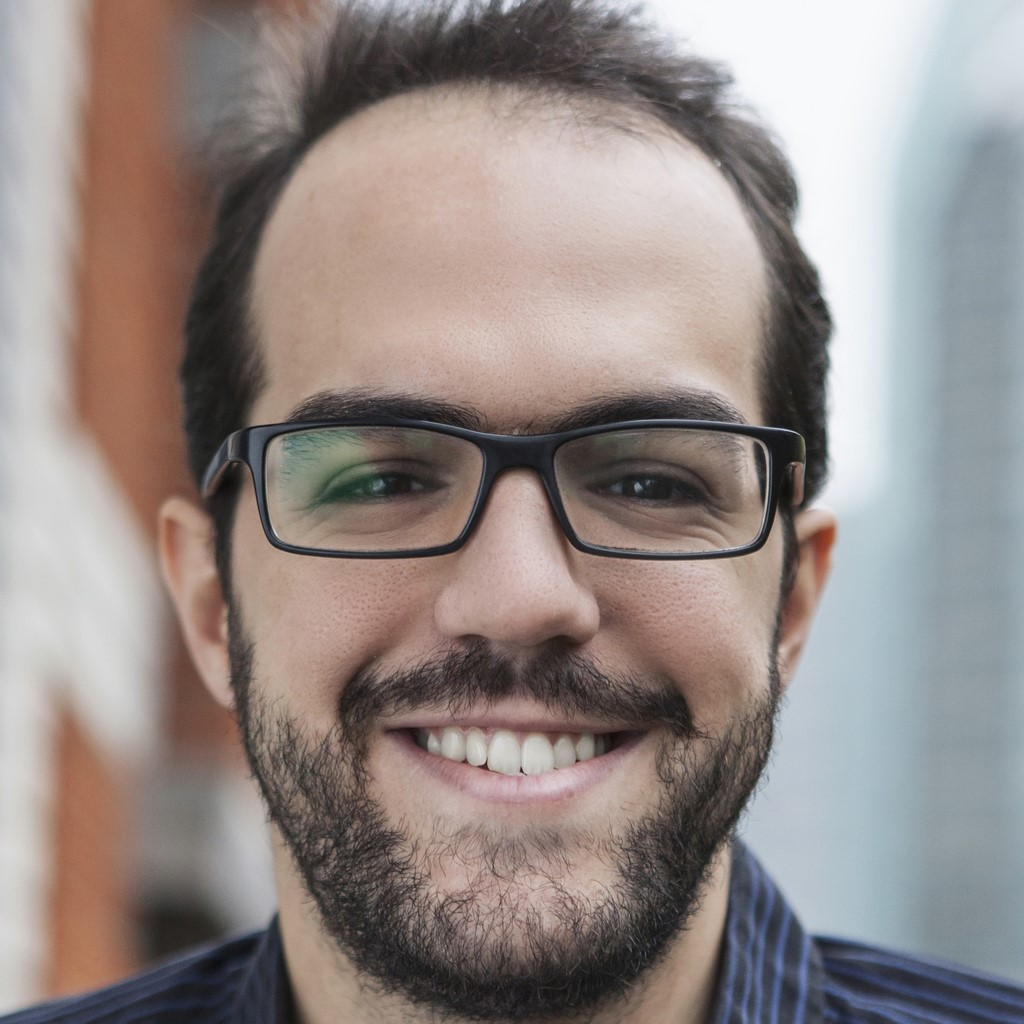sin_mascara: (186, 78, 801, 993)
